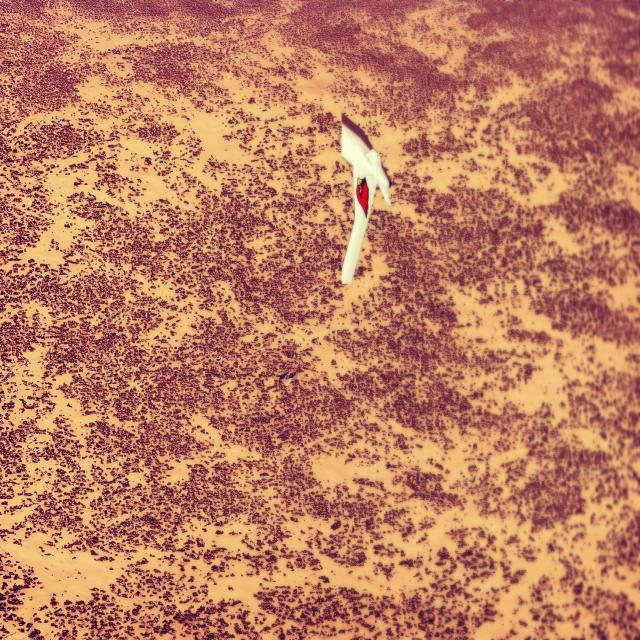airplane: (339, 110, 392, 286)
